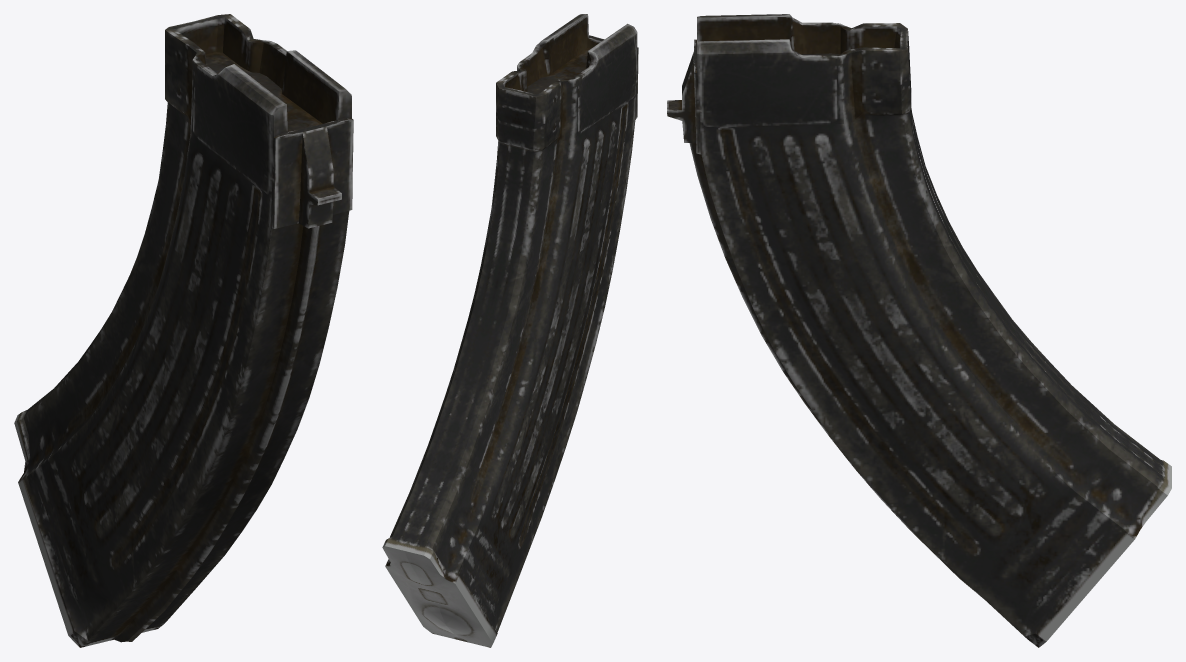
File: MAGAZINE.gltf
The picture shows the model from 3 angles, left to right: view 1: azimuth 30°, elevation 25°; view 2: azimuth 150°, elevation 25°; view 3: azimuth 270°, elevation 25°; orthographic projection. The views are drawn at different scales.
Parts seen in each view (by area): view 1: MAGAZINE; view 2: MAGAZINE; view 3: MAGAZINE.
Boxes of the visible parts, x1,y1,x2,y2 form: MAGAZINE: (14, 14, 353, 647); MAGAZINE: (382, 14, 638, 647); MAGAZINE: (667, 14, 1171, 647).
Size of the model in its own units: 0.031 by 0.219 by 0.1661.
1 material, 1 textured.
